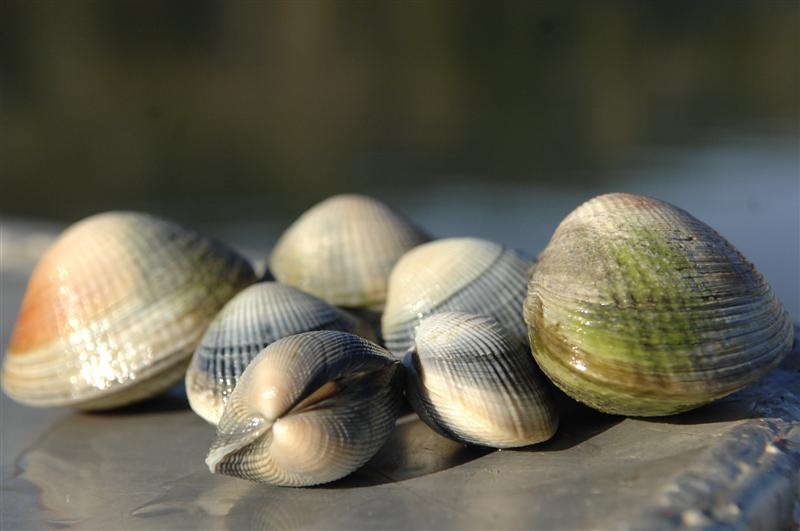cockle: (518, 185, 796, 416), (1, 205, 261, 416), (202, 328, 400, 488), (182, 278, 381, 425), (407, 314, 558, 447), (379, 235, 551, 347), (266, 189, 419, 313)
